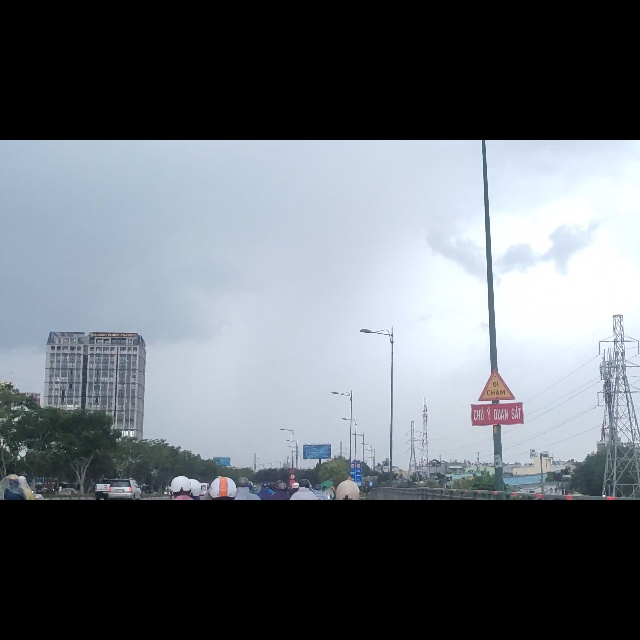bien_chi_dan: (477, 402, 517, 466)
